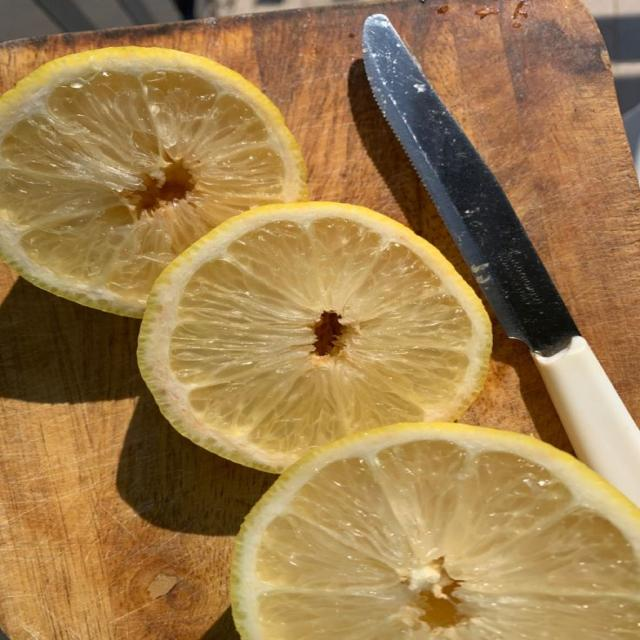lemon: (139, 203, 491, 471), (233, 424, 639, 639), (0, 47, 306, 316)
